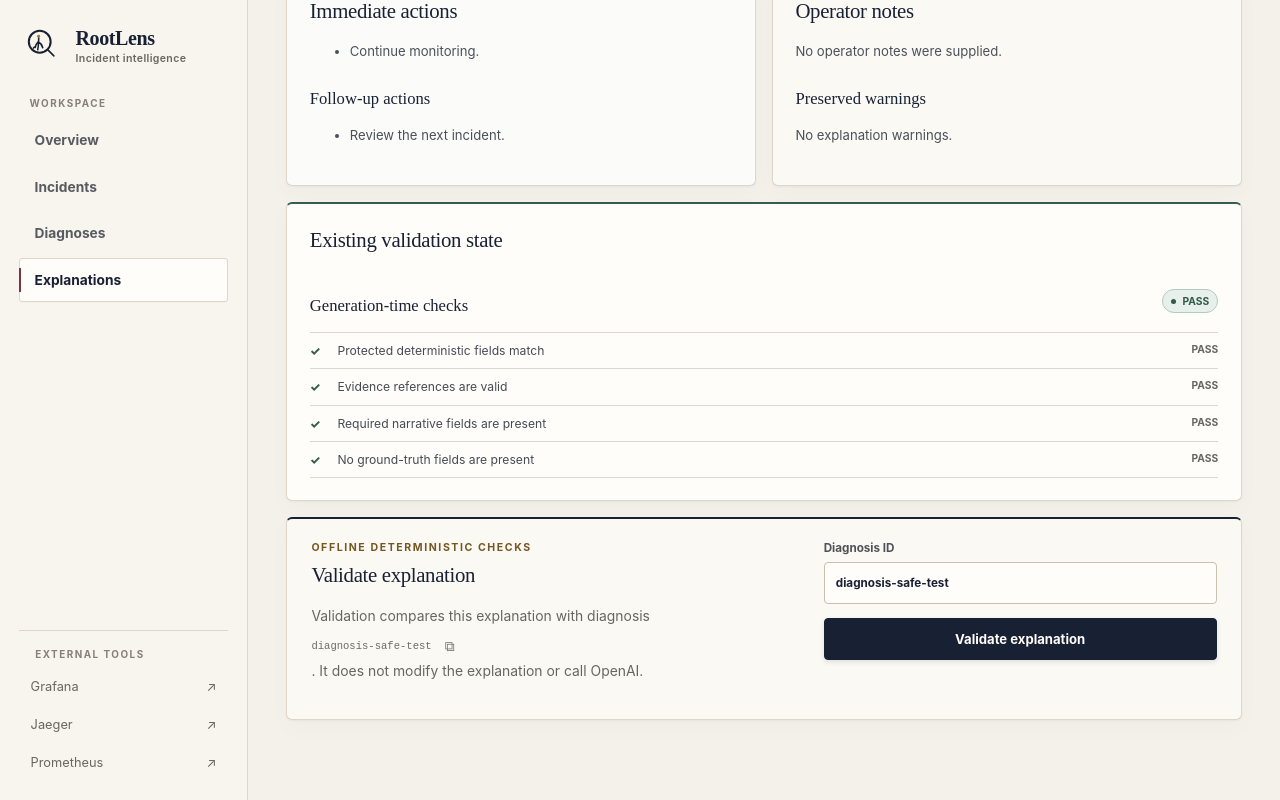
it: diagnoses and explanations › renders validation true state
(page scrolled)
Step 1. Click the button "Validate explanation" → {"x": 1020, "y": 639}, box [824,618,1217,660]
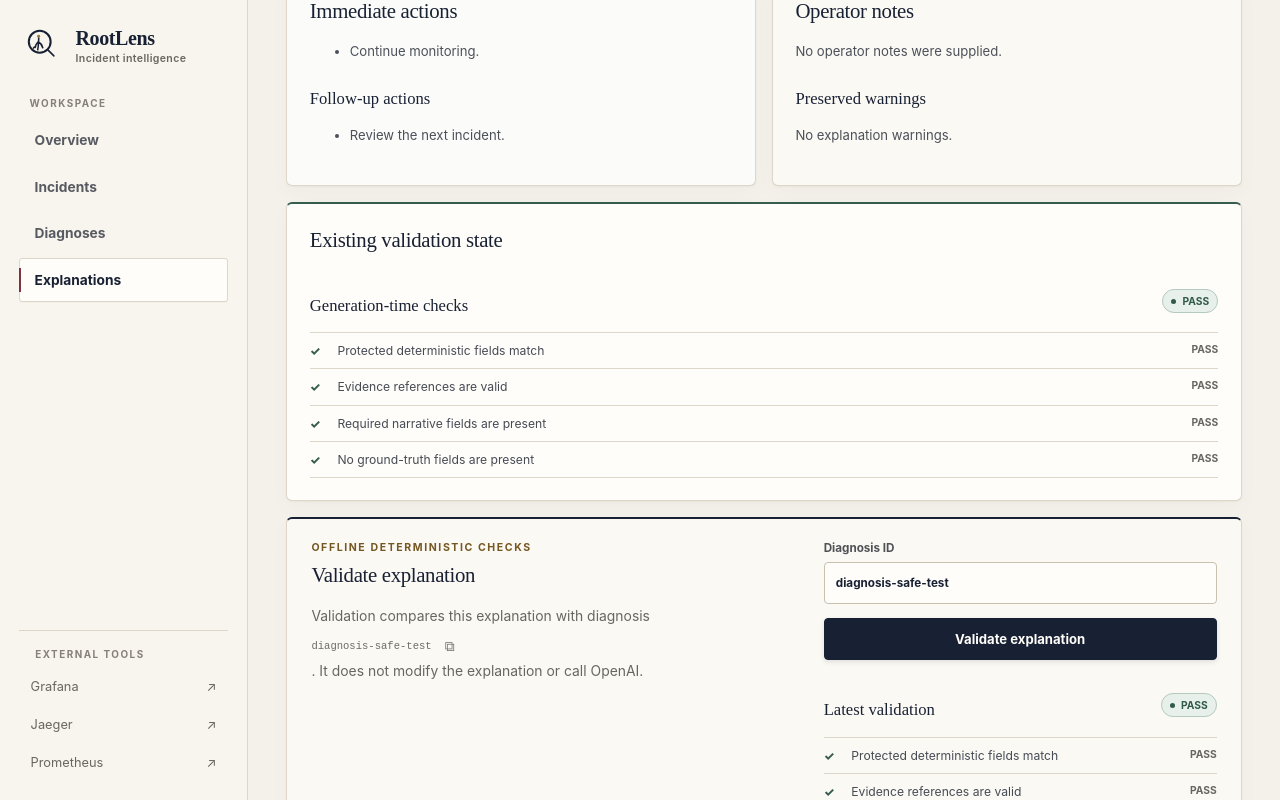
Result: the text "PASS" in the row of "Latest validation" is shown at [1181,699,1208,711]
